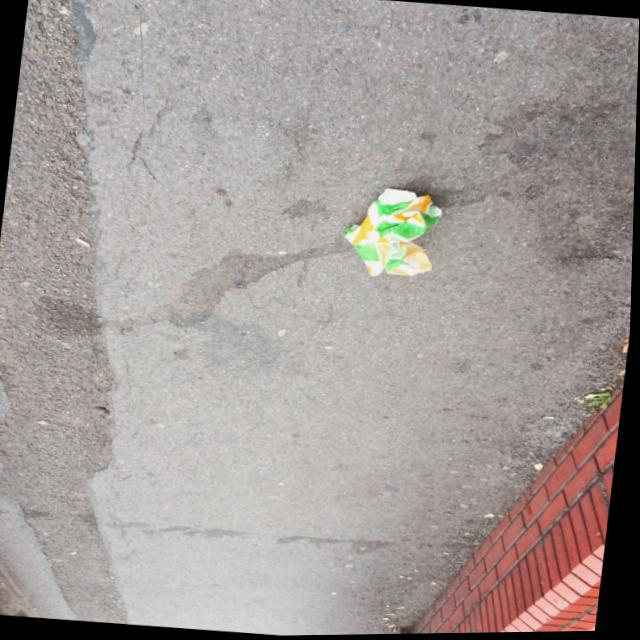Paper: (335, 179, 451, 287)
